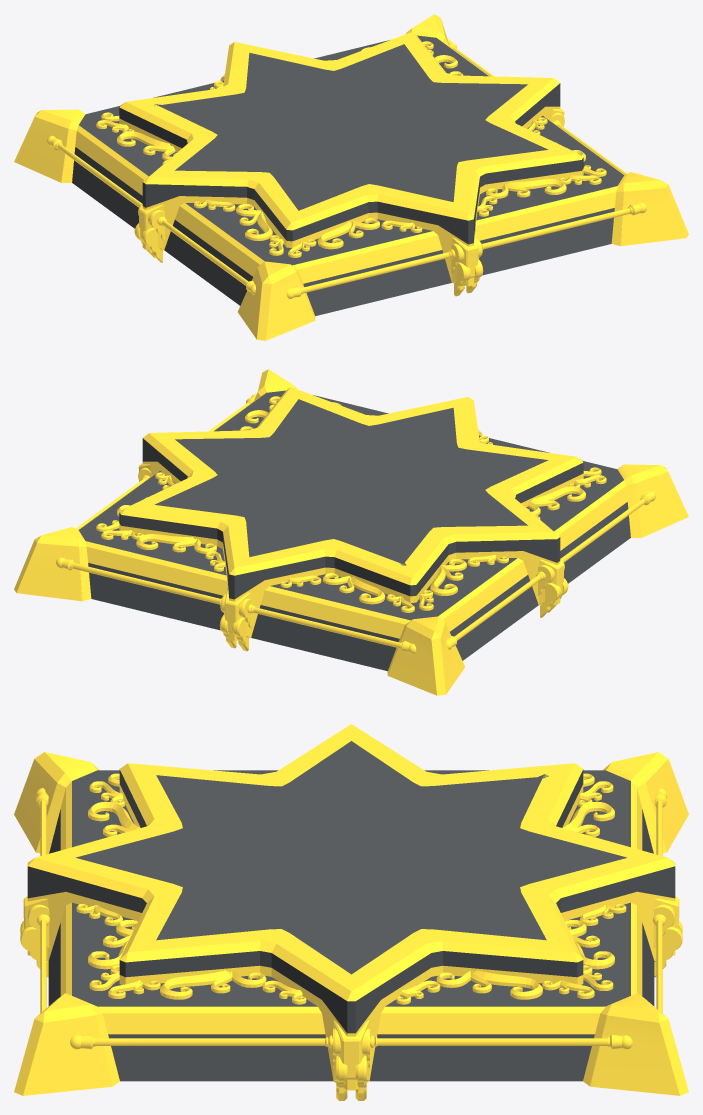
File: religious_tile.fbx
The picture shows the model from 3 angles, top to bottom: view 1: azimuth 30°, elevation 25°; view 2: azimuth 150°, elevation 25°; view 3: azimuth 270°, elevation 25°; orthographic projection. The views are drawn at different scales.
Parts seen in each view (by area): view 1: star_top, base, star_base, base_fence1, swirls_base4, staffs3, swirls_base3, staffs4, swirls_base1, base4, pTorus14, base2; view 2: star_top, base, star_base, base_fence1, swirls_base1, staffs1, swirls_base2, staffs4, swirls_base4, base1, pTorus14, base3; view 3: star_top, base, star_base, base_fence1, swirls_base2, swirls_base3, staffs2, staffs3, staffs1, base4, base1, swirls_base4 (+4 smaller).
Part boxes in pixels (box(x1,y1,x2,y2)): star_top: box(119, 32, 583, 230); base: box(14, 14, 688, 340); star_base: box(119, 83, 583, 286); base_fence1: box(57, 47, 630, 293); swirls_base4: box(194, 199, 422, 257); staffs3: box(286, 203, 646, 298); swirls_base3: box(477, 117, 606, 216); staffs4: box(47, 135, 255, 294); swirls_base1: box(96, 81, 222, 164); base4: box(61, 109, 85, 182); pTorus14: box(60, 48, 627, 287); base2: box(611, 172, 630, 245); star_top: box(119, 387, 583, 585); base: box(14, 369, 688, 695); star_base: box(119, 438, 583, 641); base_fence1: box(72, 402, 645, 648); swirls_base1: box(280, 554, 508, 612); staffs1: box(56, 557, 416, 654); swirls_base2: box(96, 472, 225, 571); staffs4: box(446, 491, 655, 649); swirls_base4: box(480, 436, 606, 519); base1: box(617, 464, 641, 537); pTorus14: box(75, 403, 642, 642); base3: box(72, 527, 91, 600); star_top: box(27, 724, 675, 1001); base: box(14, 752, 688, 1095); star_base: box(27, 769, 675, 1090); base_fence1: box(40, 800, 662, 1045); swirls_base2: box(396, 904, 626, 1004); swirls_base3: box(76, 904, 306, 1004); staffs2: box(70, 1020, 632, 1100); staffs3: box(20, 788, 49, 977); staffs1: box(653, 788, 682, 977); base4: box(603, 762, 666, 854); base1: box(36, 762, 99, 854); swirls_base4: box(88, 773, 139, 836).
Bounding box in the file's own units: 9.94 × 1.87 × 9.94.
